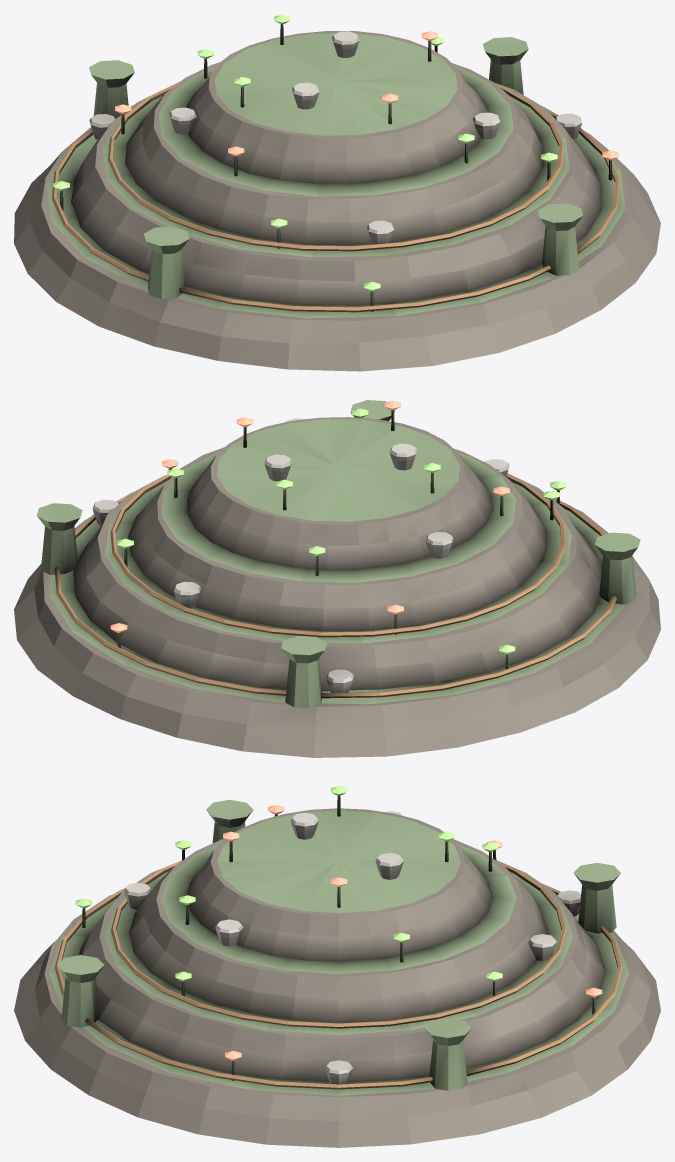
The model's file is collective_gardens.glb.
3 renders of one model, top to bottom at view 1: azimuth 30°, elevation 25°; view 2: azimuth 150°, elevation 25°; view 3: azimuth 270°, elevation 25°, orthographic.
Visible parts, largest first — view 1: collective_gardens; view 2: collective_gardens; view 3: collective_gardens.
Part boxes in pixels (bbox=[...]): collective_gardens: bbox=[14, 14, 660, 371]; collective_gardens: bbox=[14, 400, 660, 757]; collective_gardens: bbox=[14, 786, 660, 1147].
Bounding box in the file's own units: 30 × 9.1 × 30.
